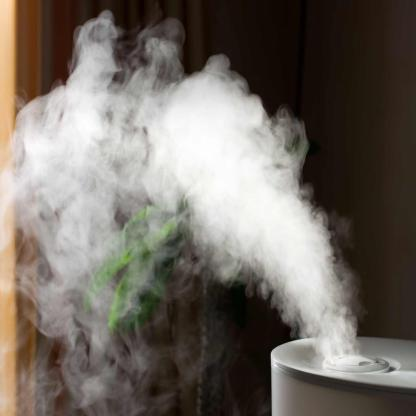smoke: (11, 32, 175, 384), (174, 69, 311, 312)
